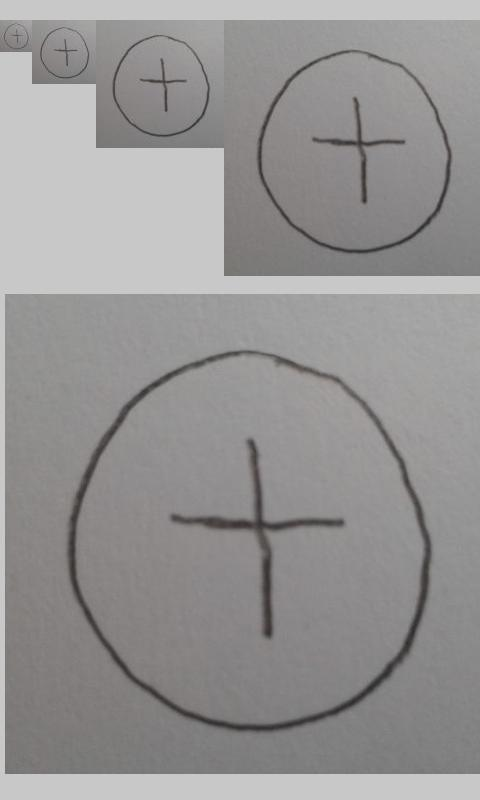button: (66, 348, 434, 733), (256, 47, 453, 254), (112, 33, 212, 137), (40, 27, 89, 79), (3, 22, 29, 50)
